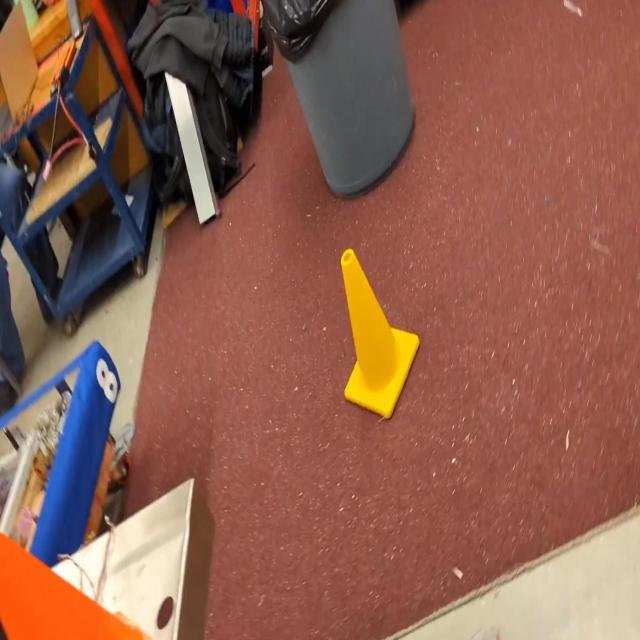frc_cone: (339, 252, 422, 421)
